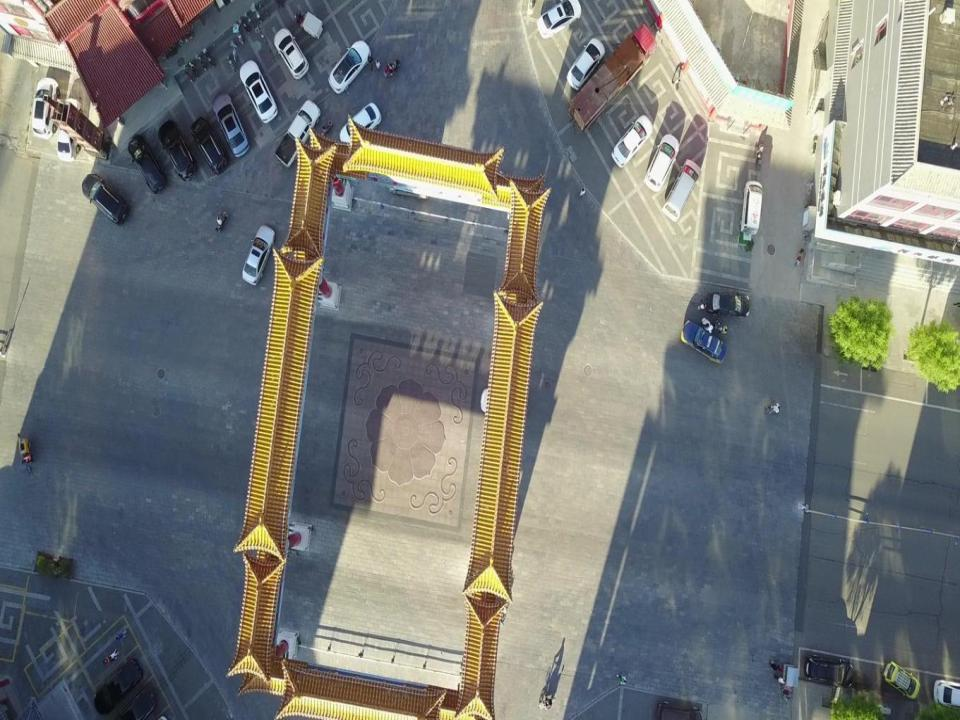car: (93, 658, 143, 714), (81, 172, 129, 227), (238, 59, 278, 124), (212, 92, 250, 158), (610, 114, 654, 168), (128, 134, 167, 194), (328, 40, 372, 93), (158, 121, 197, 180), (190, 116, 229, 174), (565, 37, 606, 91), (241, 225, 276, 287), (680, 319, 728, 364), (644, 133, 680, 192), (273, 26, 309, 80), (339, 102, 382, 146), (535, 0, 582, 40), (804, 652, 853, 688), (55, 98, 82, 162), (32, 78, 60, 138), (110, 686, 158, 720), (882, 660, 920, 699), (706, 290, 750, 319), (932, 678, 960, 710)
truck: (274, 99, 320, 168)
van: (661, 158, 701, 222), (740, 180, 763, 234)
